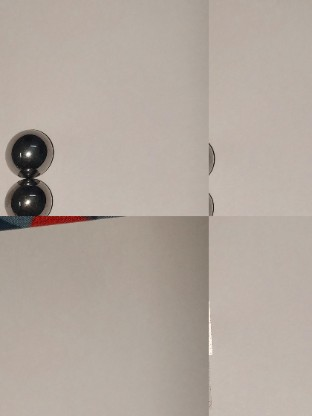ironball: (2, 126, 57, 176), (2, 176, 57, 211)
